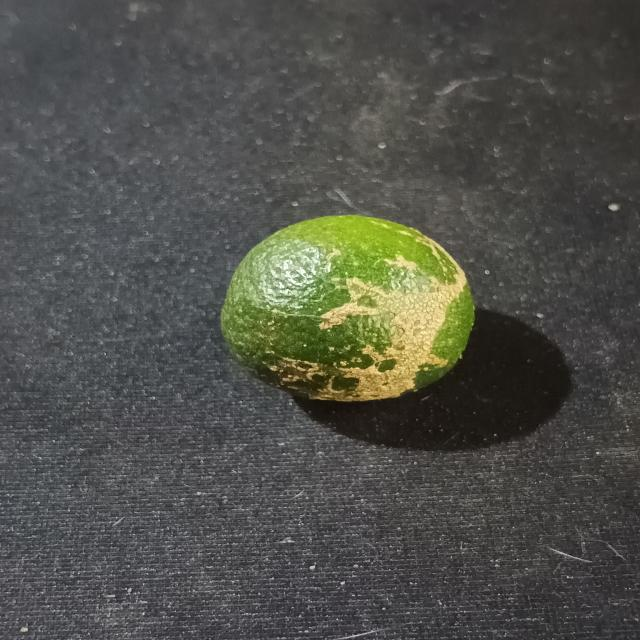thrips: (215, 214, 478, 405)
